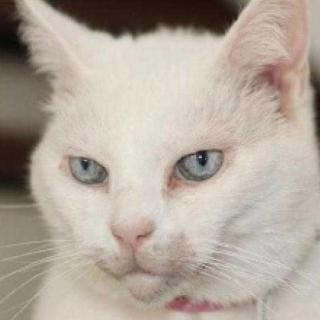cat: (11, 0, 320, 301)
nose: (106, 199, 164, 253)
